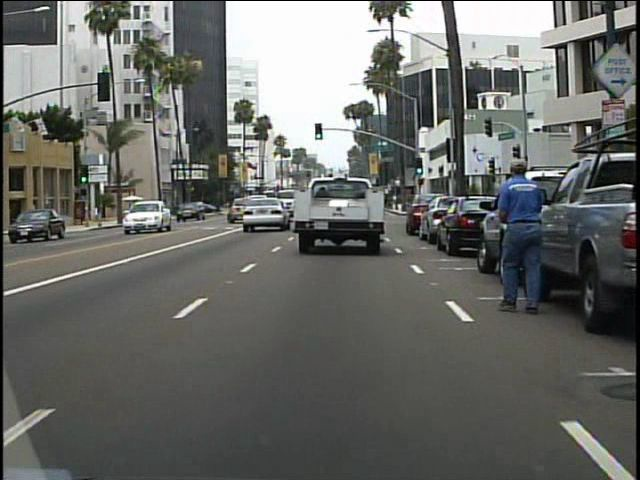person: (485, 151, 556, 319)
